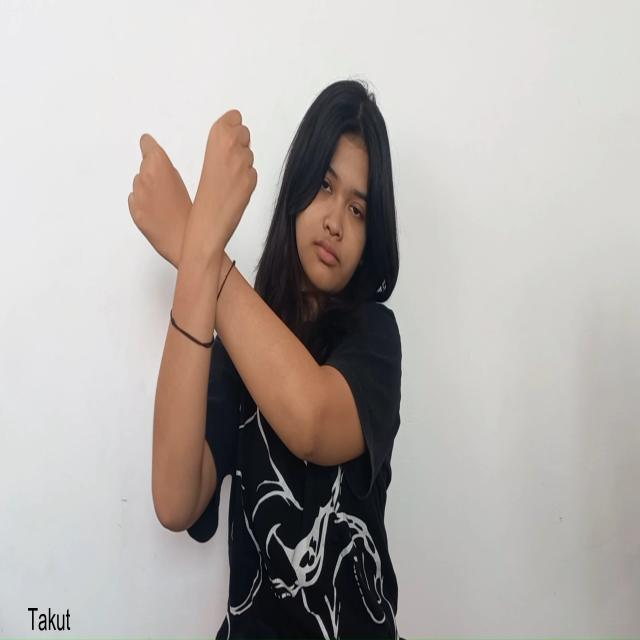Takut -BISINDO-: (127, 107, 259, 314)
